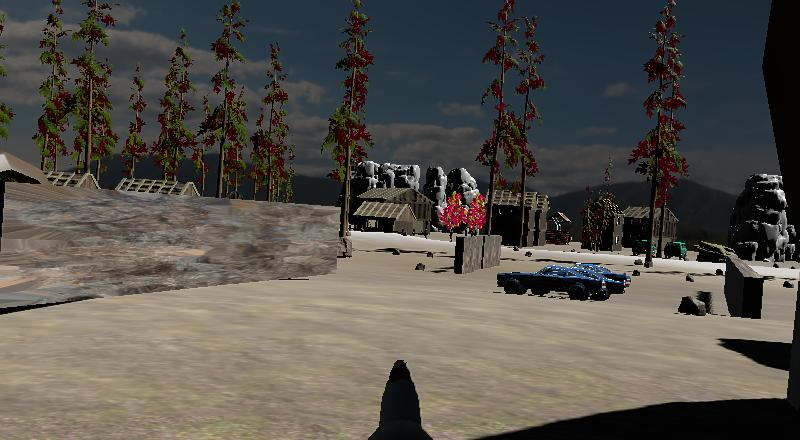House: (351, 202, 416, 235)
car: (493, 263, 632, 304), (569, 263, 634, 292), (663, 239, 690, 261), (630, 238, 660, 257)
